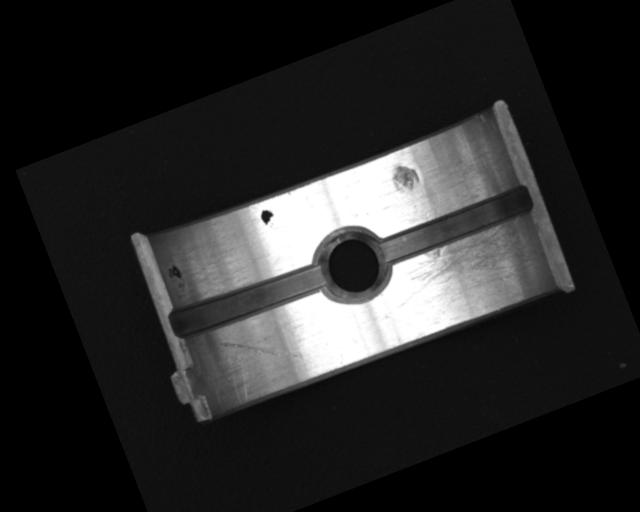blot: (164, 261, 188, 294), (257, 206, 279, 231)
bruise: (386, 159, 424, 197)
gap: (164, 251, 333, 347), (374, 181, 535, 270)
hole: (307, 218, 399, 312)
nick: (216, 314, 305, 385)
scratch: (383, 215, 545, 329)
